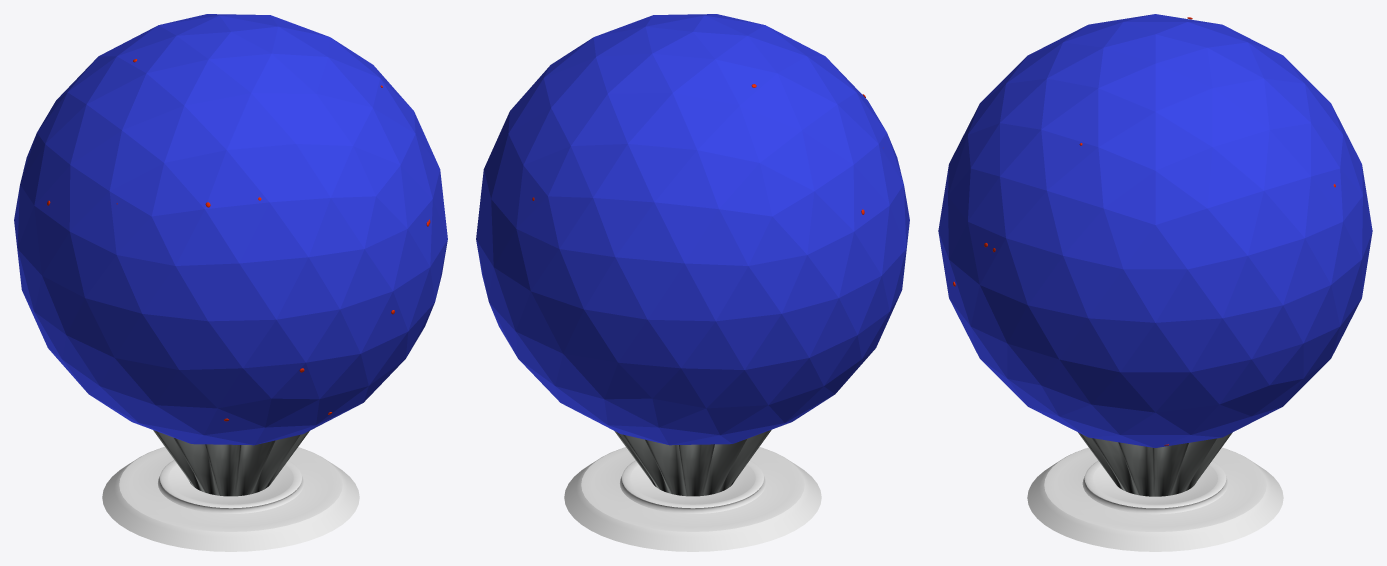
File: 3d-Hologramm_blender 1.fbx
3 renders of one model, left to right at view 1: azimuth 30°, elevation 25°; view 2: azimuth 150°, elevation 25°; view 3: azimuth 270°, elevation 25°, orthographic.
Visible parts, largest first — view 1: Icosphere, Circle.023, Sphere.001; view 2: Icosphere, Circle.023, Sphere.001; view 3: Icosphere, Circle.023, Sphere.001.
Boxes of the visible parts, box(x1,y1,x2,y2) form: Icosphere: box(14, 14, 447, 445); Circle.023: box(102, 447, 359, 551); Sphere.001: box(153, 430, 309, 496); Icosphere: box(476, 14, 909, 445); Circle.023: box(564, 447, 821, 551); Sphere.001: box(614, 430, 771, 496); Icosphere: box(938, 14, 1372, 447); Circle.023: box(1027, 447, 1283, 551); Sphere.001: box(1078, 432, 1232, 496).
Size of what is drawn, in the model's own units: 2817 by 3317 by 2817.
